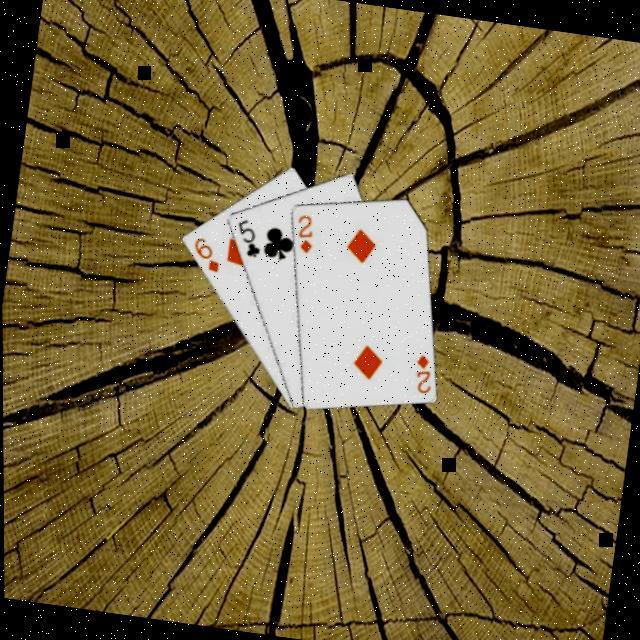2D: (291, 211, 319, 258), (410, 351, 438, 398)
5C: (231, 216, 267, 262)
6D: (188, 234, 225, 276)
